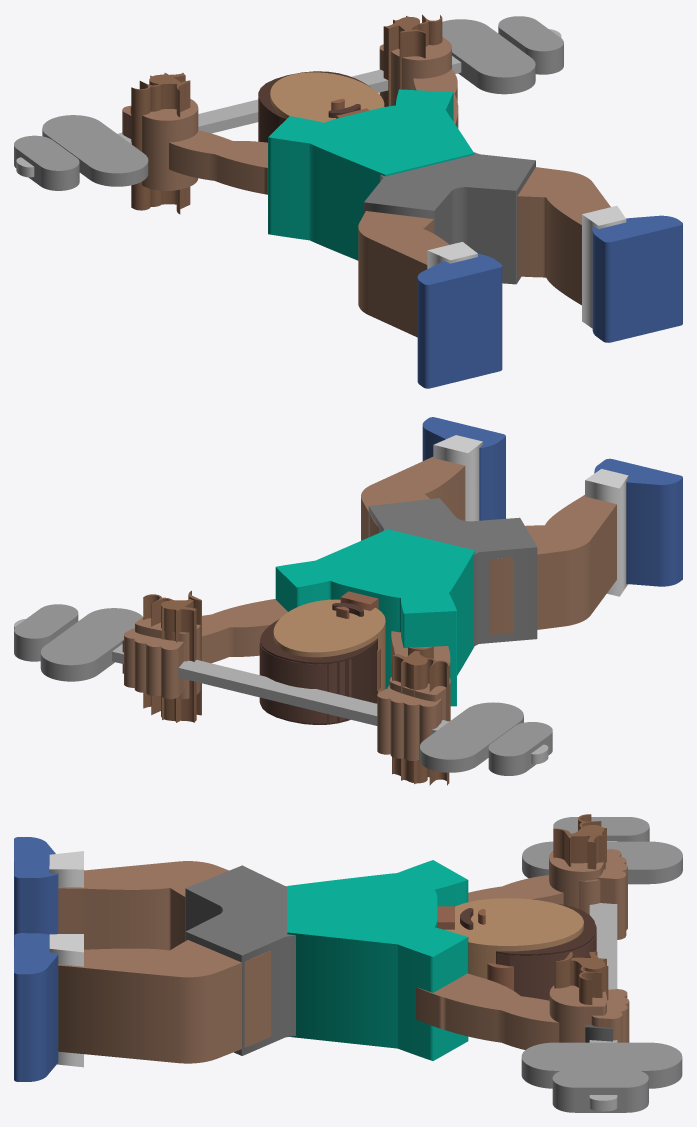
File: emoji_u1f3cb_1f3fd_200d_2642.glb
3 renders of one model, top to bottom at view 1: azimuth 30°, elevation 25°; view 2: azimuth 150°, elevation 25°; view 3: azimuth 270°, elevation 25°, orthographic. The views are drawn at different scales.
Parts seen in each view (by area): view 1: emoji_u1f3cb_1f3fd_200d_2642; view 2: emoji_u1f3cb_1f3fd_200d_2642; view 3: emoji_u1f3cb_1f3fd_200d_2642.
Part boxes in pixels (x1,y1,x2,y2): emoji_u1f3cb_1f3fd_200d_2642: (14,14,682,388); emoji_u1f3cb_1f3fd_200d_2642: (14,417,682,785); emoji_u1f3cb_1f3fd_200d_2642: (14,814,682,1112).
Bounding box in the file's own units: 0.0338 × 0.0074 × 0.0337.
